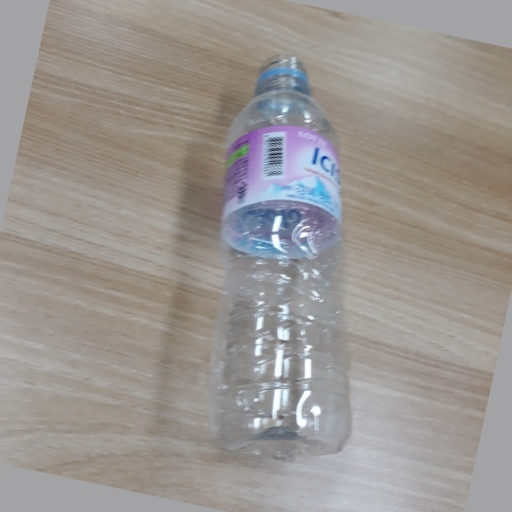Plastic_0: (214, 54, 355, 468)
